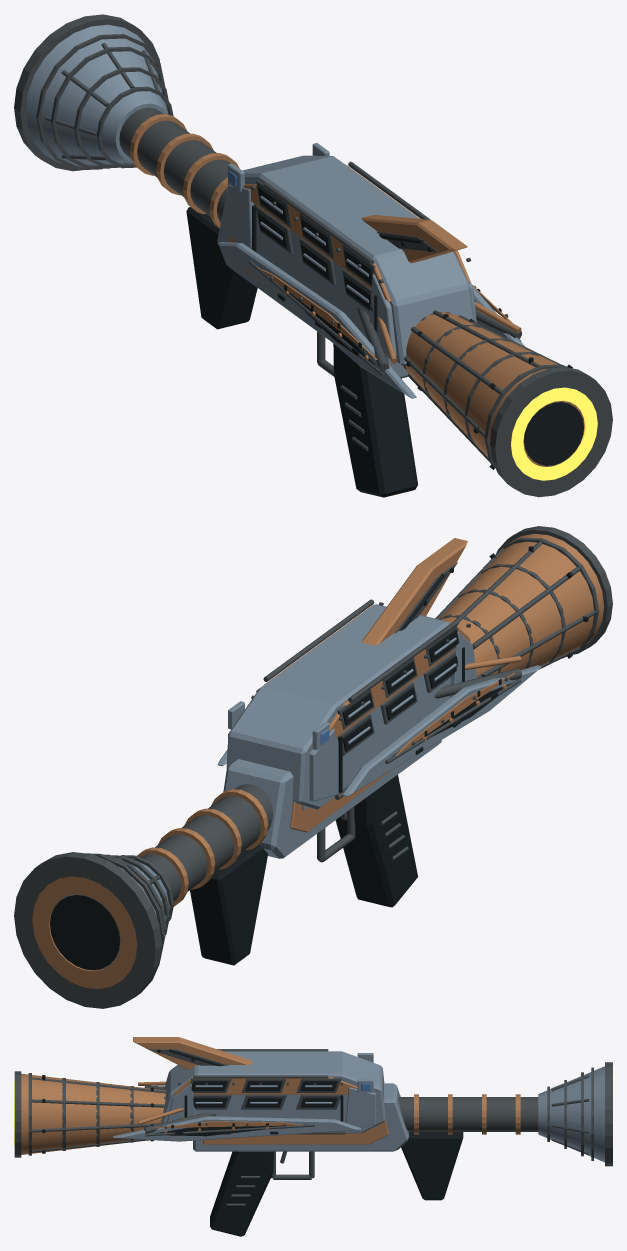
File: kick_2.glb
3 renders of one model, top to bottom at view 1: azimuth 30°, elevation 25°; view 2: azimuth 150°, elevation 25°; view 3: azimuth 270°, elevation 25°, orthographic. The views are drawn at different scales.
Parts seen in each view (by area): view 1: Weapon_kick_v1; view 2: Weapon_kick_v1; view 3: Weapon_kick_v1.
Part boxes in pixels (bbox=[...]): Weapon_kick_v1: bbox=[14, 14, 612, 497]; Weapon_kick_v1: bbox=[14, 526, 612, 1008]; Weapon_kick_v1: bbox=[14, 1037, 612, 1236].
Size of the model in its own units: 0.156 by 0.3139 by 0.884.
